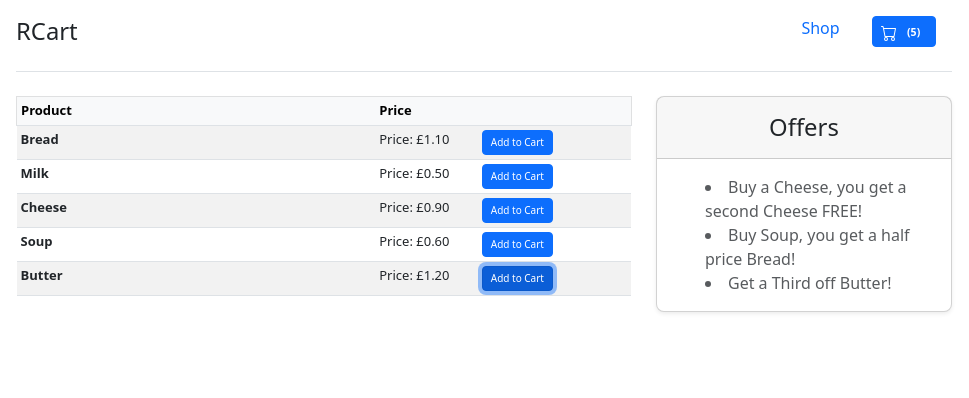
Test: Show List of Shopping Cart Items › Click the Cart button and sow the added products in a list
This screenshot has width=969, height=398.
Click the button with test id "btnCart". click: (904, 32)
box: [872,16,936,47]
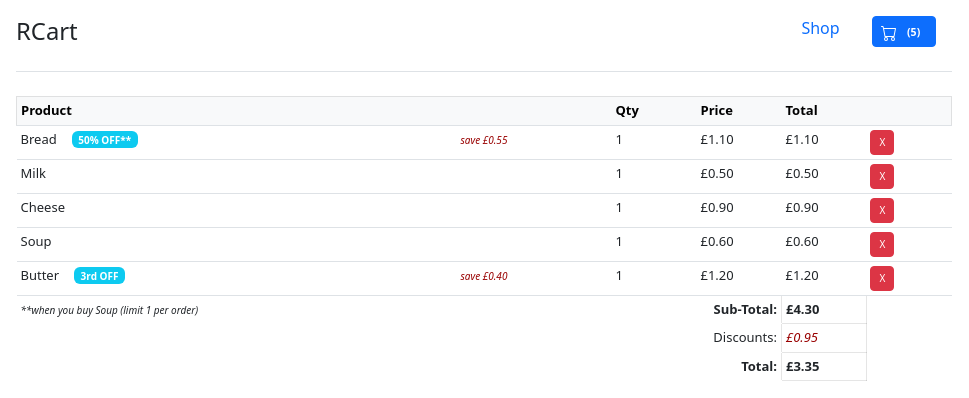
Expected: the text "Milk" is shown, [16,159,442,193]
Result: the text "Bread" is shown at [21,130,57,148]
Result: the text "Butter" is shown at [21,266,60,284]
